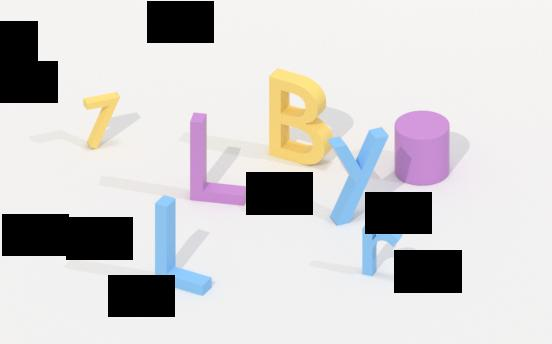7: (78, 92, 128, 152)
R: (359, 220, 407, 277)
Y: (323, 129, 393, 223)
b: (261, 71, 336, 168)
l: (149, 194, 223, 292), (183, 110, 255, 206)
tru: (390, 108, 454, 191)
